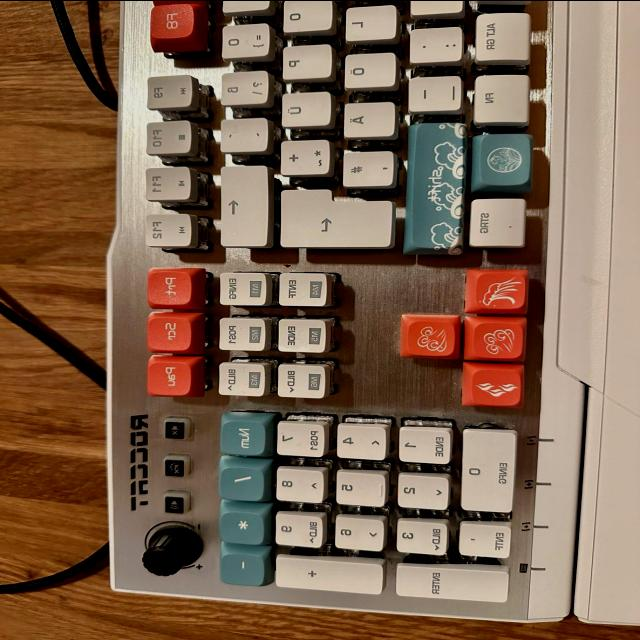0: (216, 20, 270, 59)
accent: (216, 115, 268, 151)
ae: (339, 99, 394, 137)
altgr-right: (471, 9, 530, 63)
comma: (407, 0, 463, 16)
del: (217, 161, 270, 249)
enter: (276, 185, 396, 249)
hash: (339, 147, 394, 186)
keyboard: (104, 1, 590, 621)
l: (342, 3, 396, 41)
minus: (404, 72, 460, 111)
o: (278, 0, 332, 32)
oe: (340, 50, 395, 88)
p: (277, 41, 331, 79)
plus: (280, 137, 333, 175)
point: (405, 24, 461, 63)
shift-right: (407, 118, 468, 254)
space: (547, 0, 617, 391)
ss: (216, 67, 270, 105)
strg-right: (468, 193, 528, 247)
ue: (277, 88, 331, 126)
